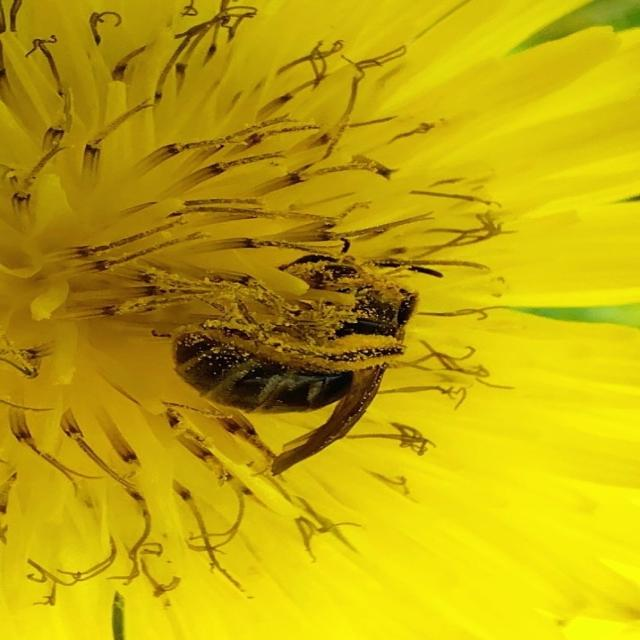bee: (170, 248, 434, 475)
